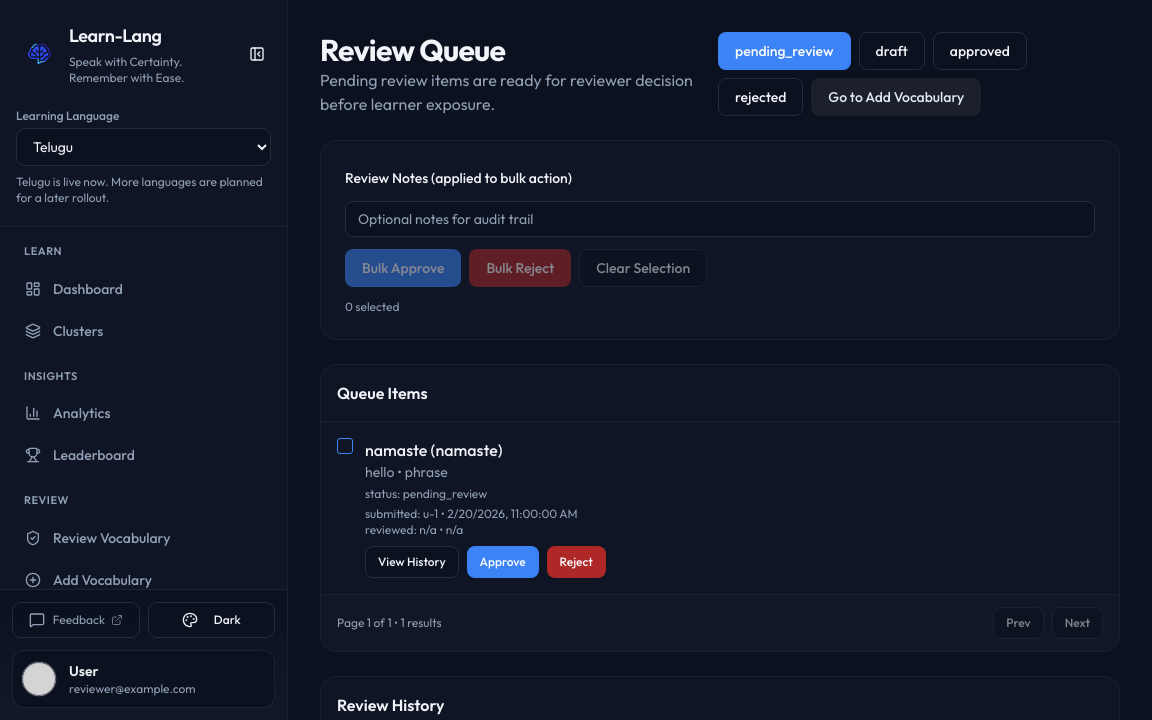
Test: ReviewPage integration › renders empty review-history events after selecting an item
Click the button "View History" at [412, 562], box [365,546,459,578]
(page scrolled)
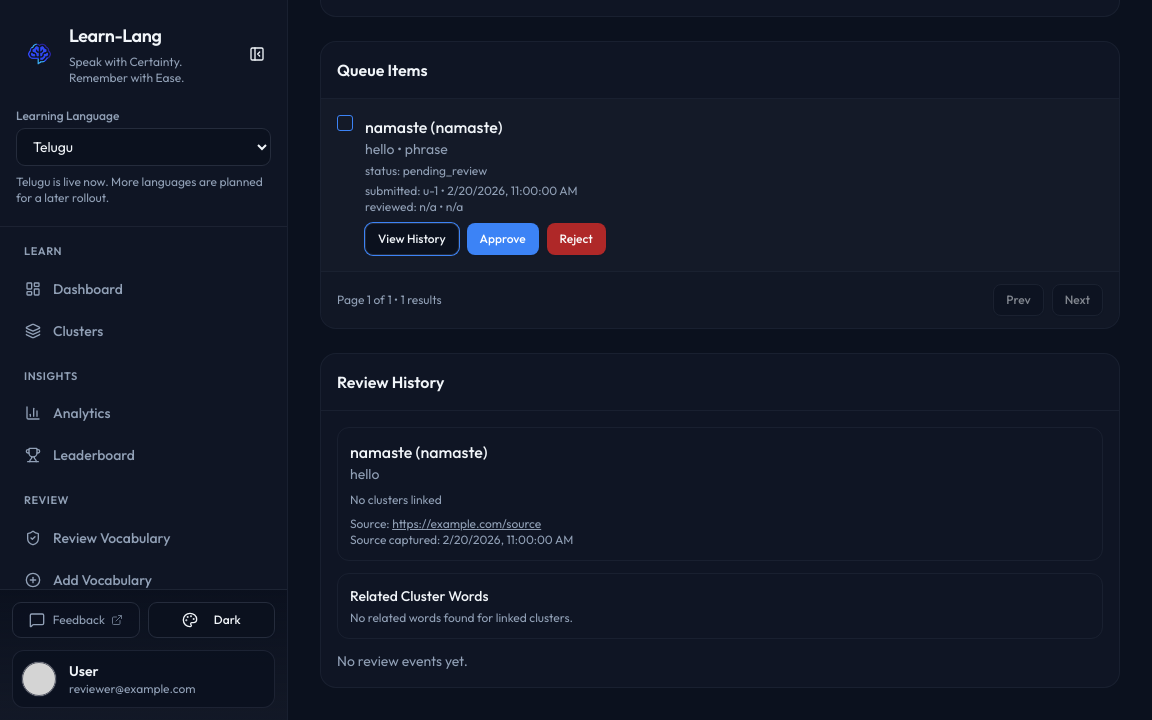
Expected: the text "No review events yet." is shown, [337,652,468,670]
